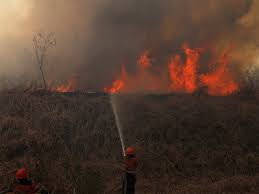fire: (118, 47, 243, 96)
smoke: (81, 6, 143, 87)
